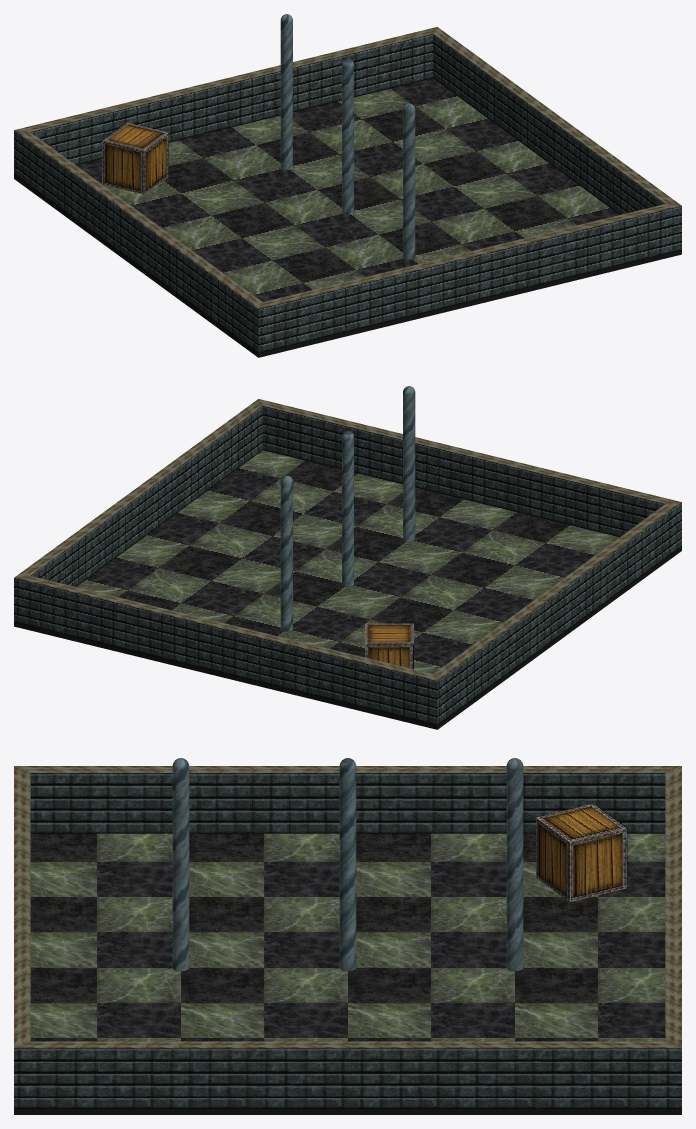
3 views of the same model, one above another, from view 1: azimuth 30°, elevation 25°; view 2: azimuth 150°, elevation 25°; view 3: azimuth 270°, elevation 25° (orthographic). The views are drawn at different scales.
Visible parts, largest first — view 1: ground, box1, peg1, peg3, peg2; view 2: ground, peg3, peg1, box1, peg2; view 3: ground, box1, peg2, peg3, peg1.
Boxes of the visible parts, x1,y1,x2,y2 form: ground: (14, 27, 681, 357); box1: (102, 122, 168, 194); peg1: (403, 103, 415, 259); peg3: (280, 14, 292, 169); peg2: (342, 59, 353, 214); ground: (14, 399, 681, 729); peg3: (280, 475, 292, 631); peg1: (403, 386, 415, 541); box1: (365, 623, 413, 669); peg2: (342, 431, 353, 586); ground: (14, 766, 681, 1114); box1: (536, 803, 627, 902); peg2: (339, 758, 356, 971); peg3: (506, 758, 523, 971); peg1: (172, 758, 189, 971).
Size of the model in its own units: 20 by 7.1 by 20.
Materials: 6 (5 with a texture image).
